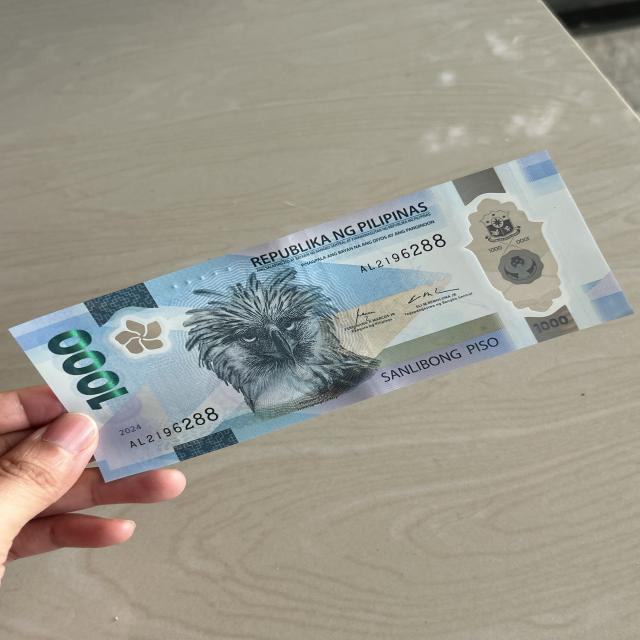clear_window: (465, 188, 562, 323)
eagle: (188, 276, 368, 398)
sampaguita: (109, 316, 171, 356)
